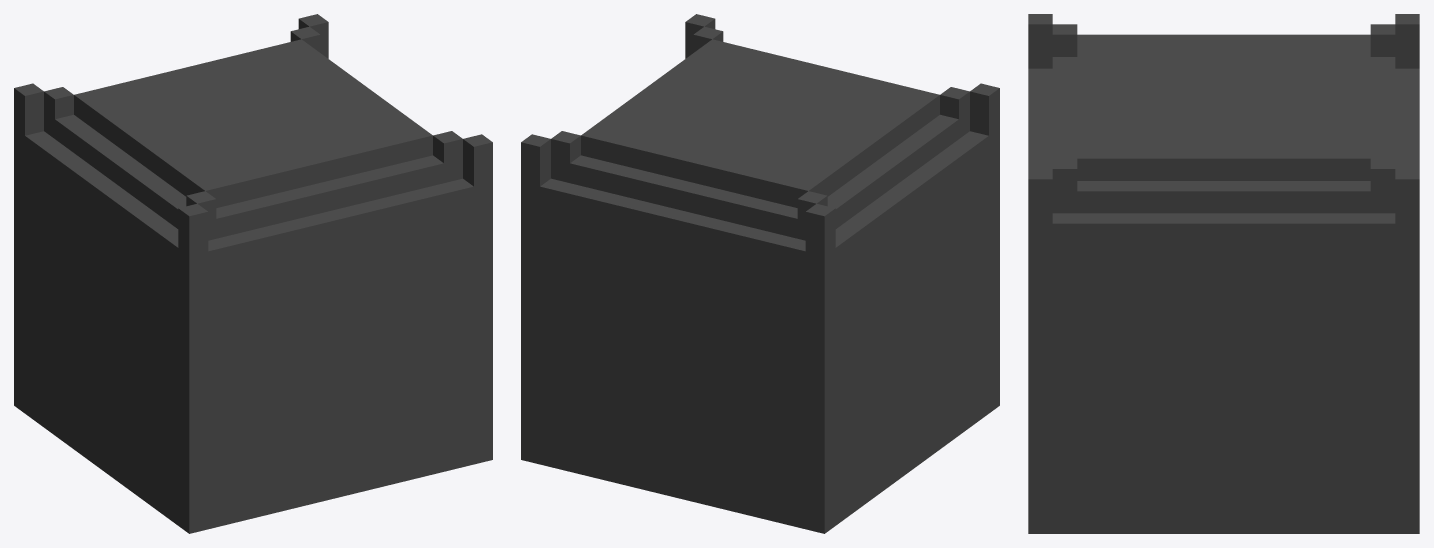
Rendered from Moyou9.obj.
3 views of the same model, side by side, from view 1: azimuth 30°, elevation 25°; view 2: azimuth 150°, elevation 25°; view 3: azimuth 270°, elevation 25° (orthographic). The views are drawn at different scales.
Parts seen in each view (by area): view 1: Moyou9; view 2: Moyou9; view 3: Moyou9.
Boxes of the visible parts, x1,y1,x2,y2 form: Moyou9: (14,14,492,533); Moyou9: (521,14,999,533); Moyou9: (1028,14,1419,533).
Size of the model in its own units: 16 by 16 by 16.
Materials: 1 (1 with a texture image).
